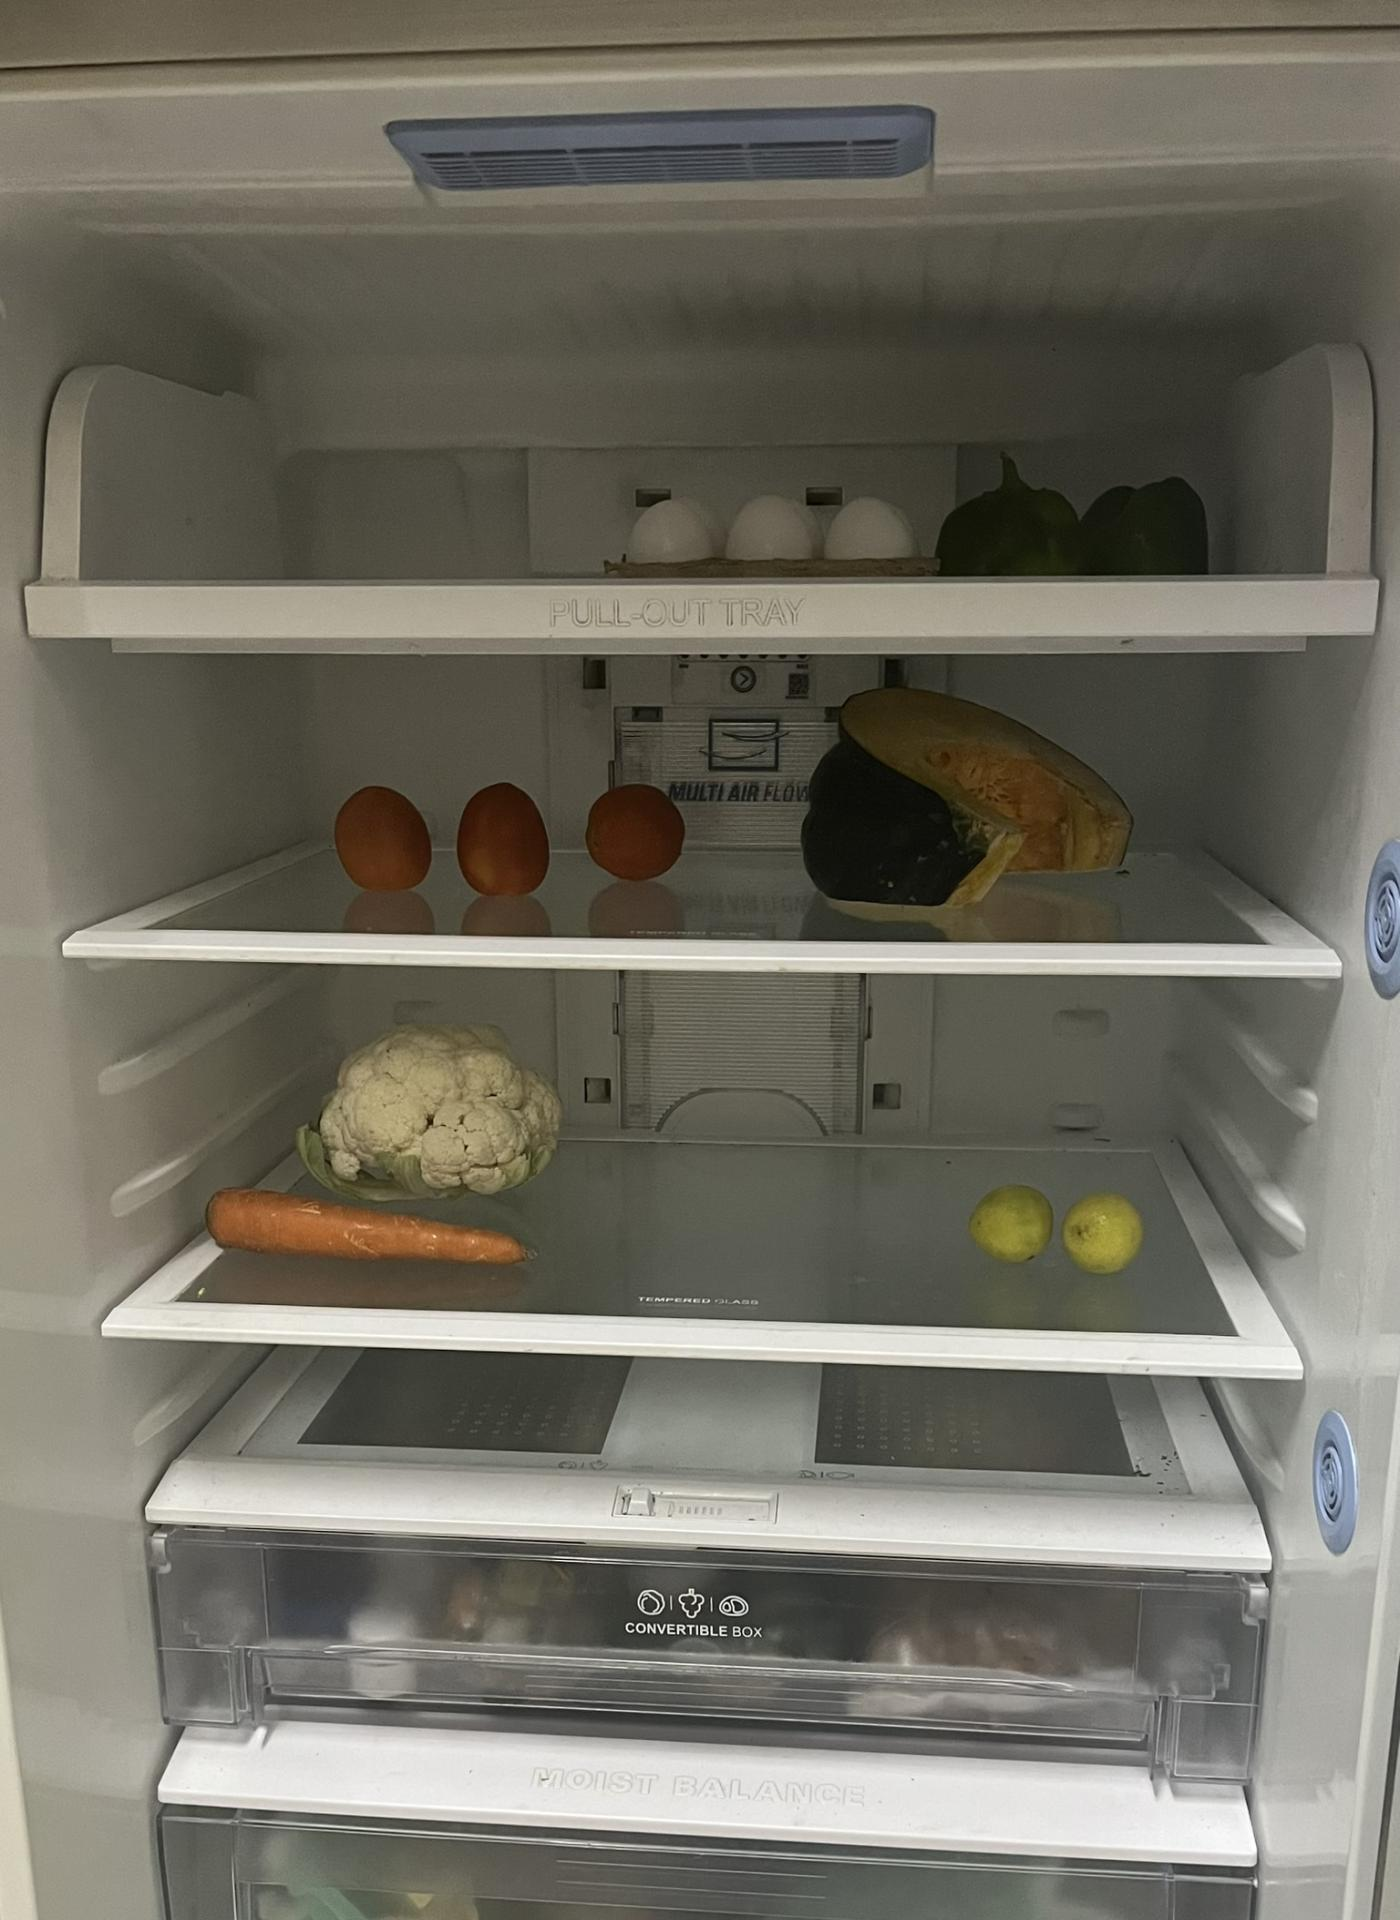capsicum: (924, 464, 1206, 571)
carrots: (201, 1193, 534, 1267)
cauliflower: (298, 1023, 561, 1181)
egg: (629, 495, 920, 565)
lemon: (971, 1175, 1147, 1278)
pumpkin: (807, 692, 1135, 909)
tomato: (341, 784, 552, 897), (587, 781, 686, 882)
